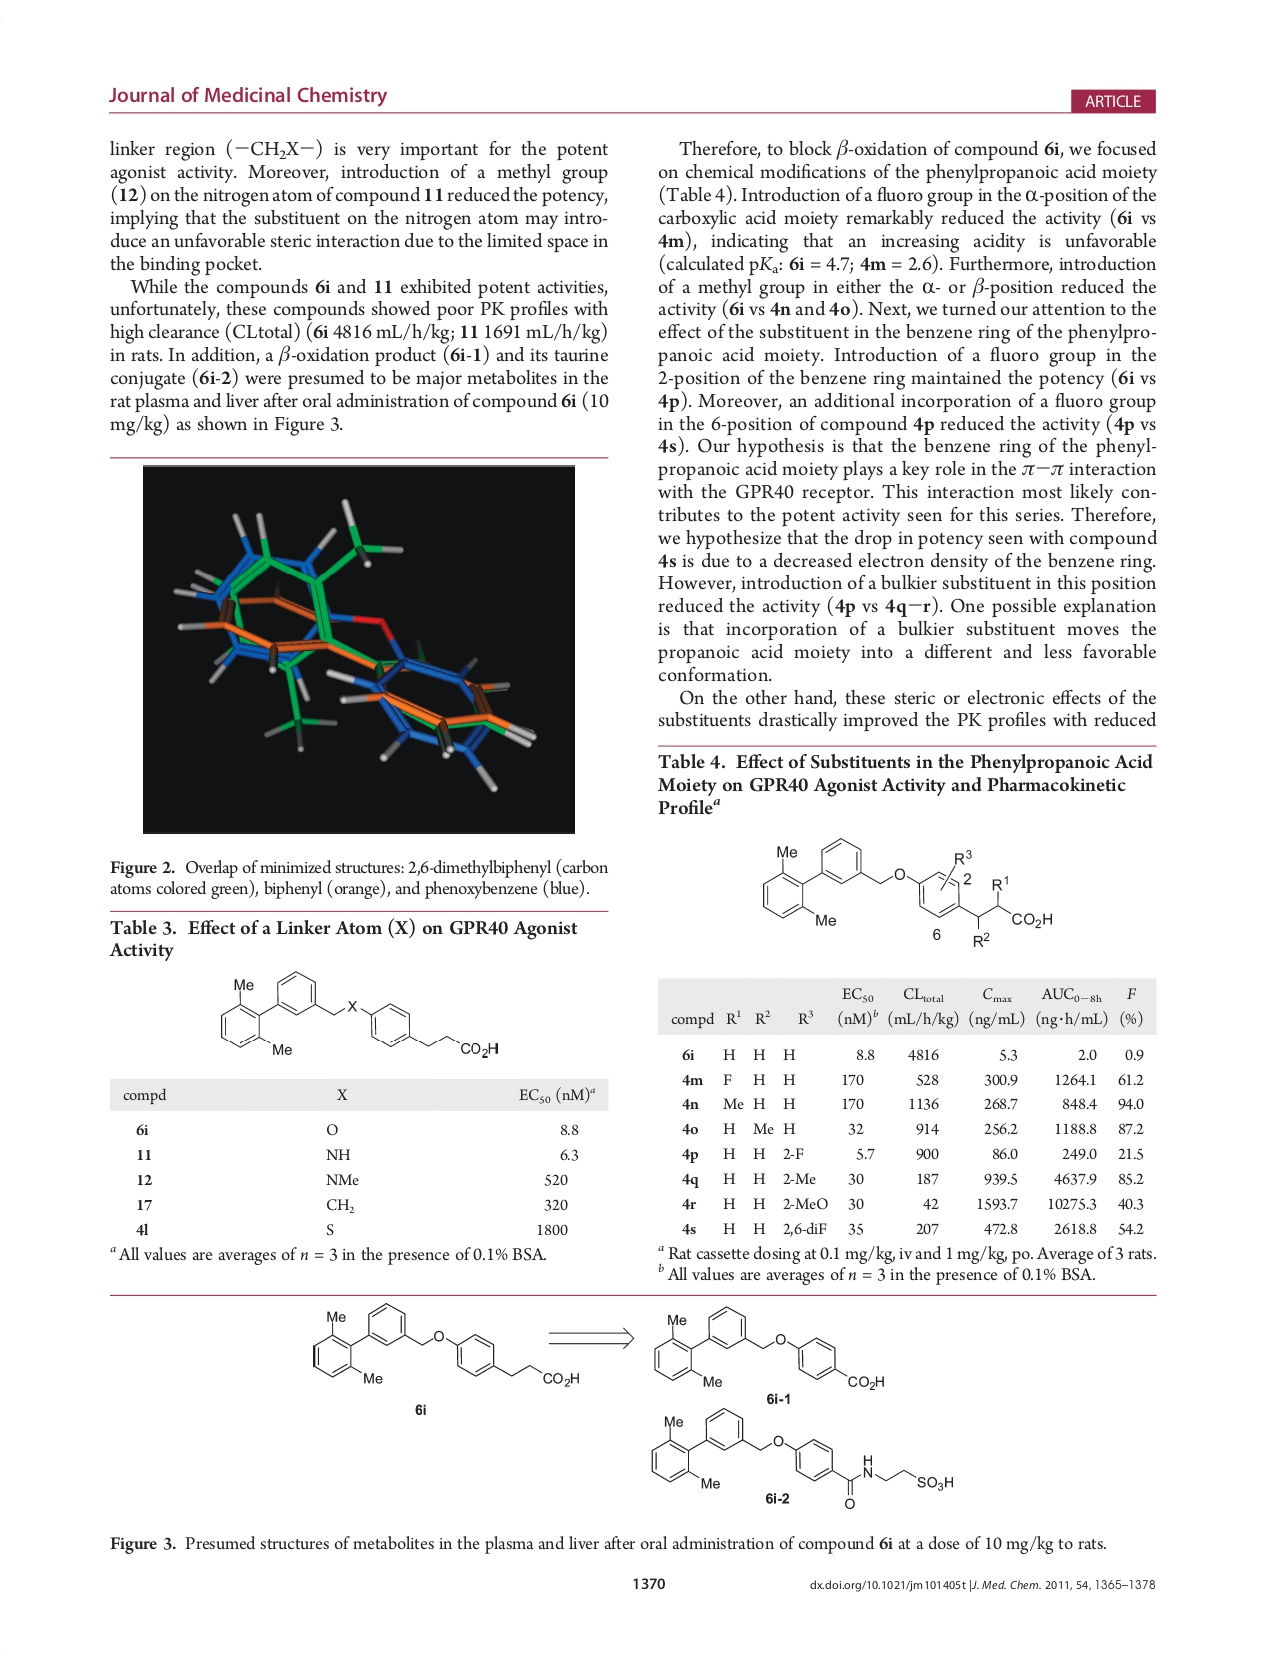exist_molecular: (753, 829, 1057, 952), (648, 1406, 957, 1509), (211, 963, 505, 1067), (309, 1301, 585, 1392), (649, 1301, 890, 1394)
